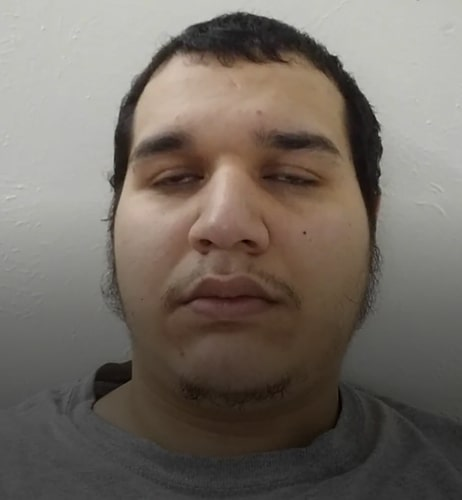Sleeping: (120, 135, 358, 209)
